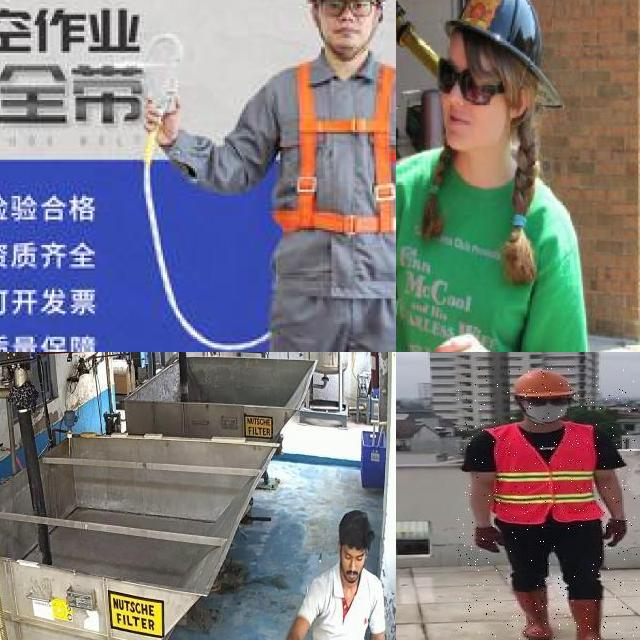Harness: (269, 57, 396, 285)
boots: (565, 598, 613, 640), (515, 589, 553, 639)
face_nomask: (438, 50, 502, 136), (337, 549, 367, 584)
glasses: (434, 56, 512, 107)
hand_noglove: (426, 327, 497, 352)
head_helmet: (436, 0, 550, 74), (508, 368, 576, 398)
head_nohelmet: (339, 507, 375, 551)
person: (396, 0, 573, 352), (458, 369, 637, 640), (281, 508, 390, 640)
vest: (487, 425, 608, 524)
